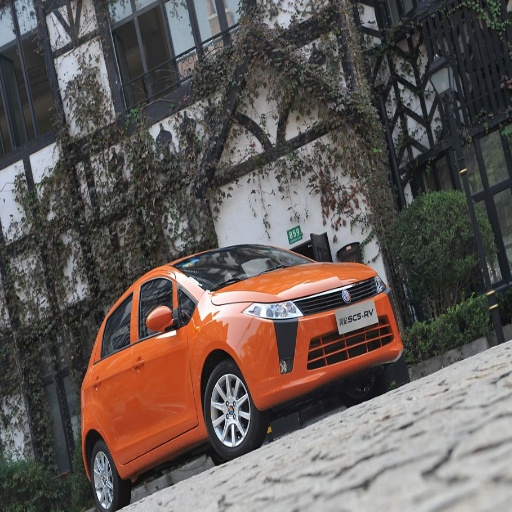back_bumper: (257, 370, 332, 407)
tailgate: (270, 268, 372, 336)
trunk: (317, 296, 383, 363)
